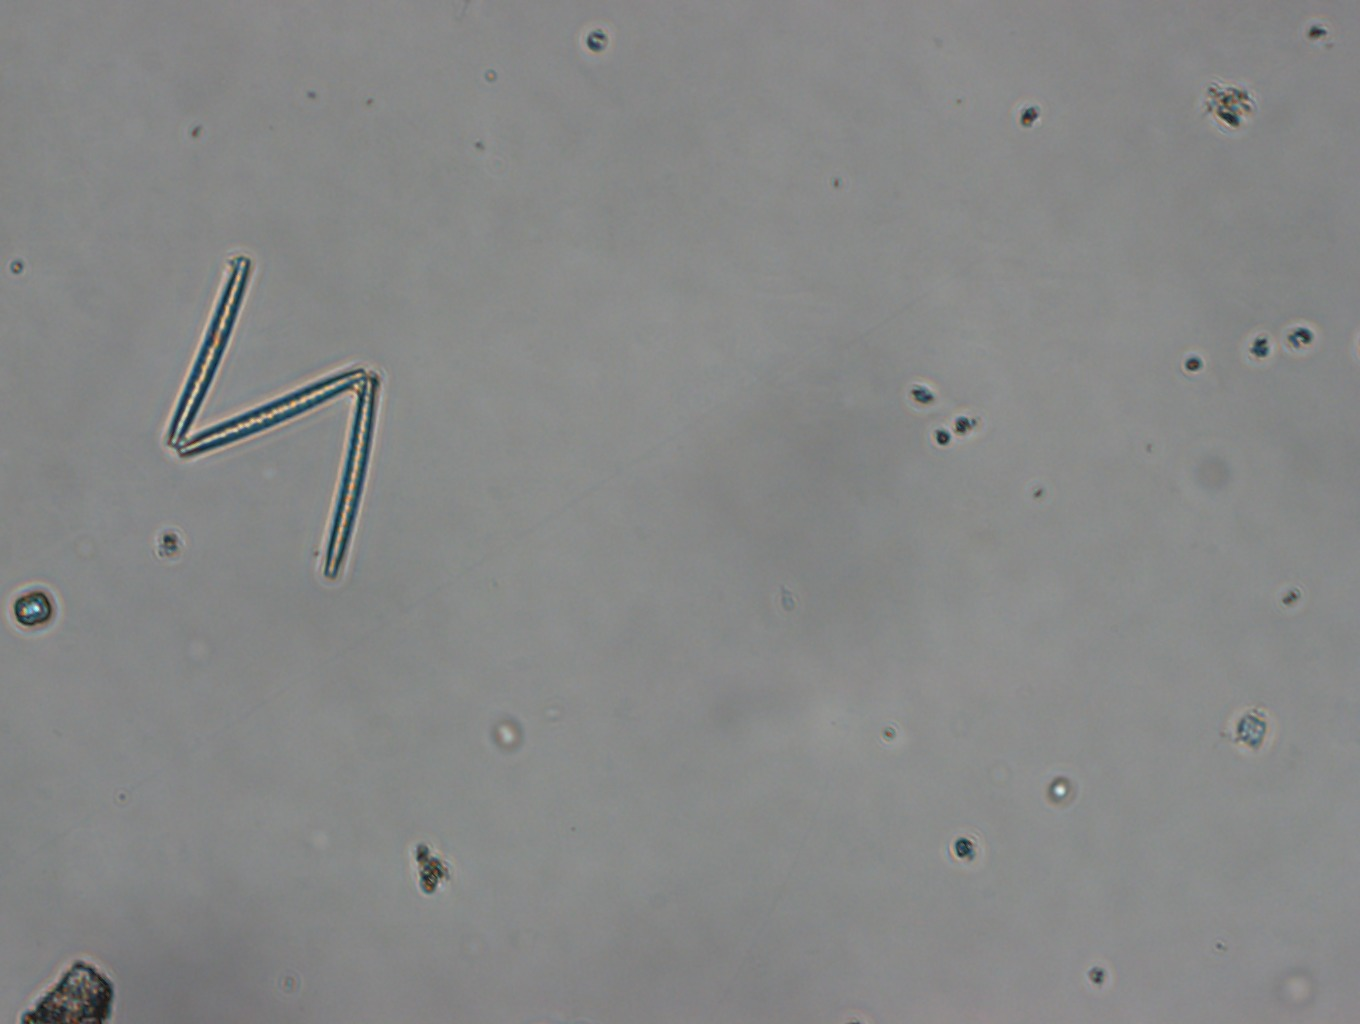thalassionema nitzschioides: (156, 253, 392, 602)
